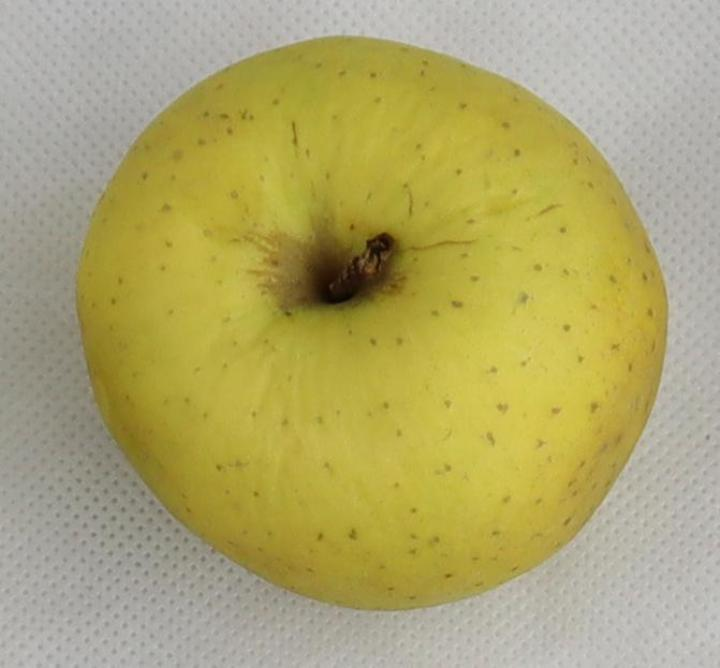apple: (77, 38, 666, 608)
